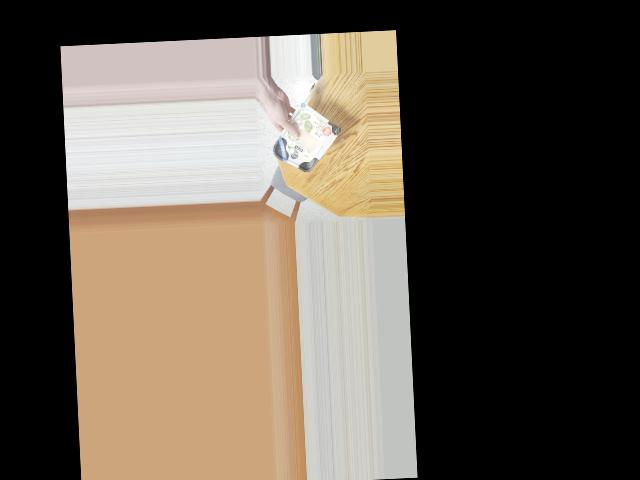cheese: (269, 112, 337, 173)
